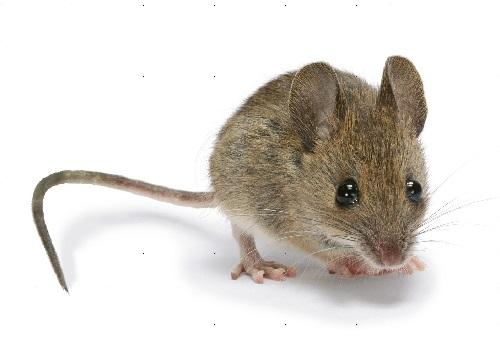mouse: (173, 47, 440, 299)
